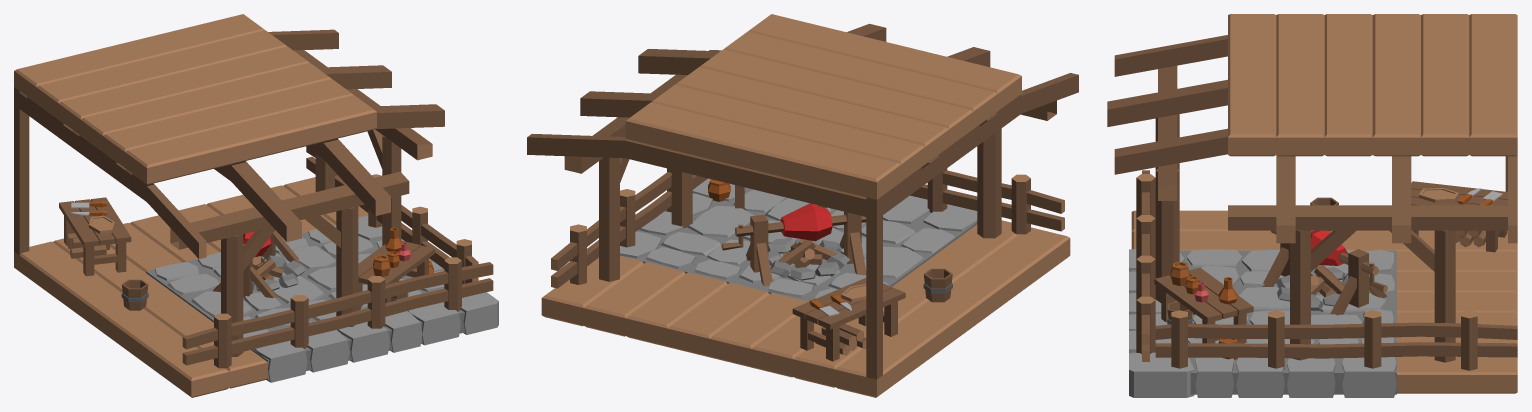
The model's file is Kitchen_Lvl_01_Corner_LeftRight.fbx.
3 views of the same model, side by side, from view 1: azimuth 30°, elevation 25°; view 2: azimuth 150°, elevation 25°; view 3: azimuth 270°, elevation 25° (orthographic). The views are drawn at different scales.
Parts seen in each view (by area): view 1: Kitchen_Lvl_01_Corner_LeftRight; view 2: Kitchen_Lvl_01_Corner_LeftRight; view 3: Kitchen_Lvl_01_Corner_LeftRight.
Part boxes in pixels (x1,y1,x2,y2): Kitchen_Lvl_01_Corner_LeftRight: (14, 14, 498, 397); Kitchen_Lvl_01_Corner_LeftRight: (527, 14, 1078, 397); Kitchen_Lvl_01_Corner_LeftRight: (1107, 14, 1517, 397).
Size of the model in its own units: 8.35 by 5.05 by 8.5.
